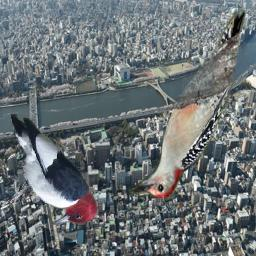Woodpecker: (129, 10, 245, 200), (0, 115, 98, 226)
